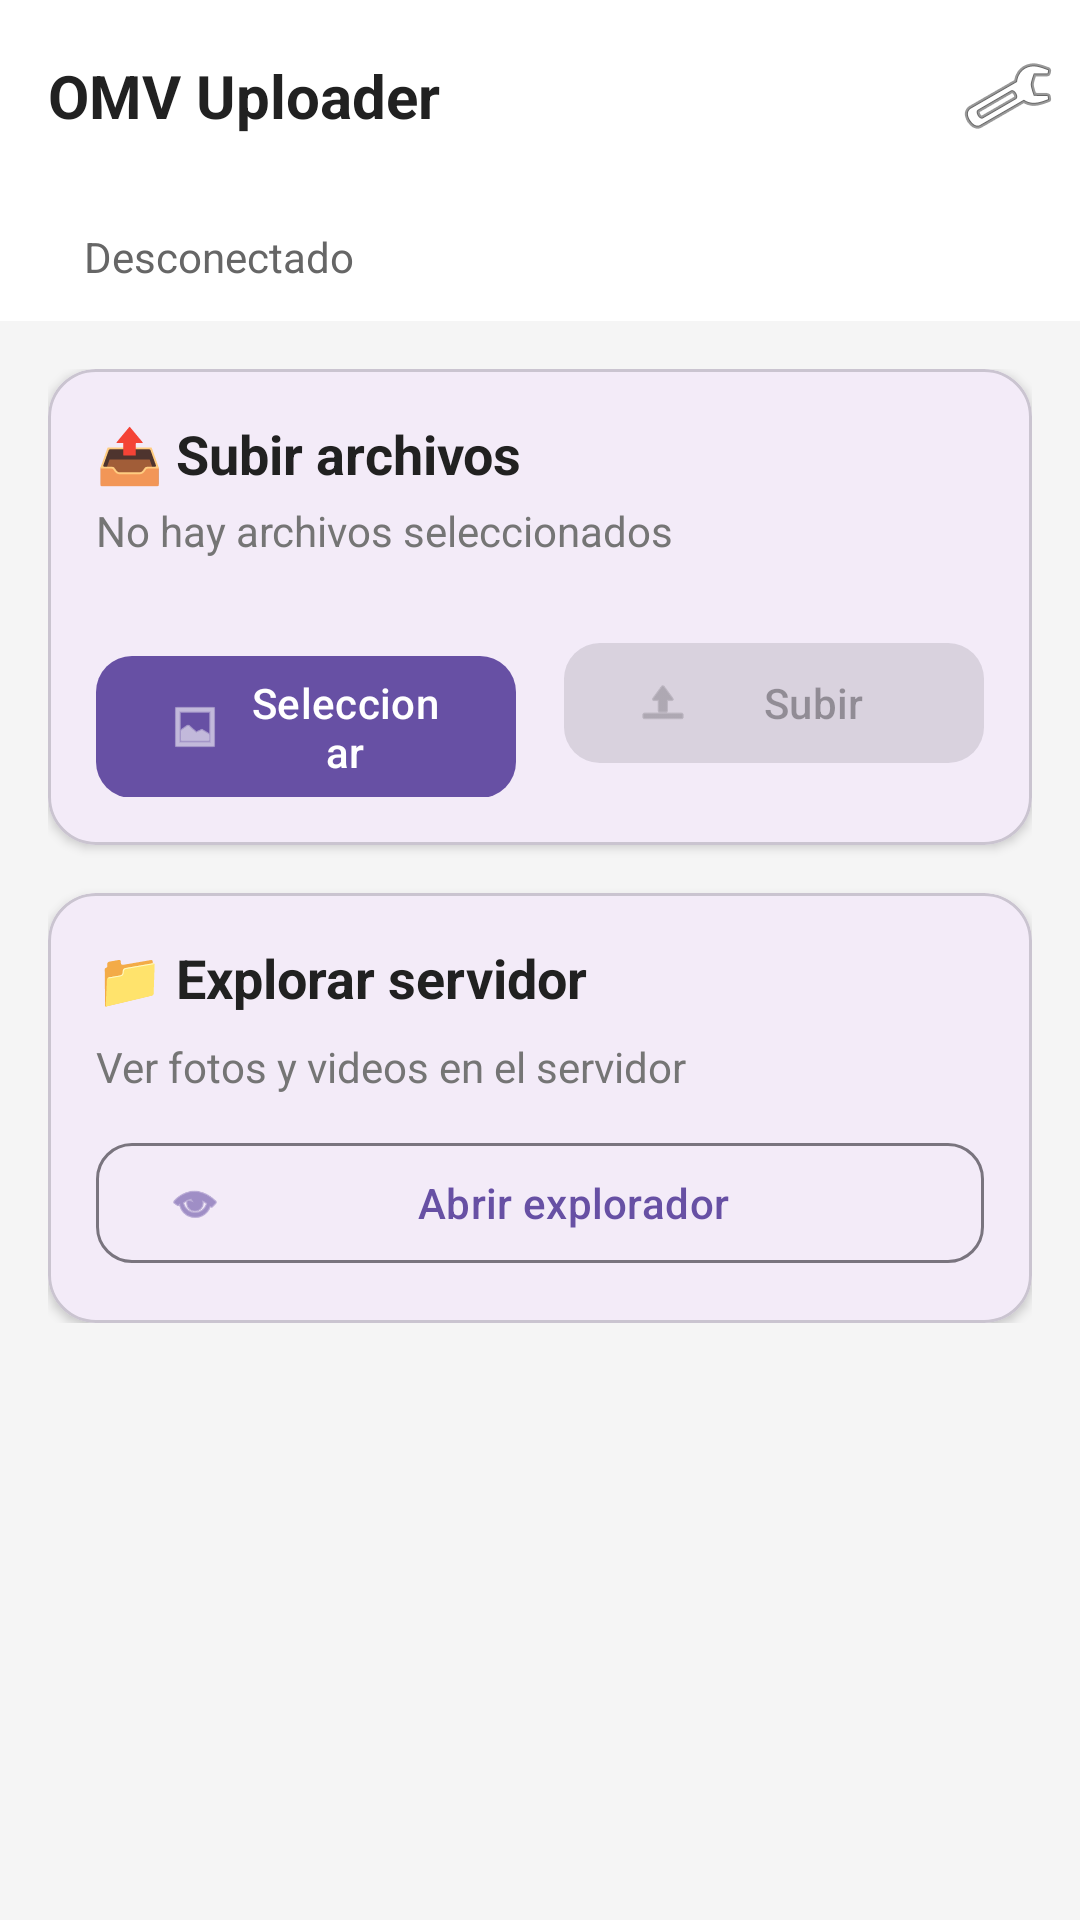

Screen size 1080*1920. Icon name, then its box in pixels as (x1,y1,x2,y2):
Configuración: (965,63,1051,129)
